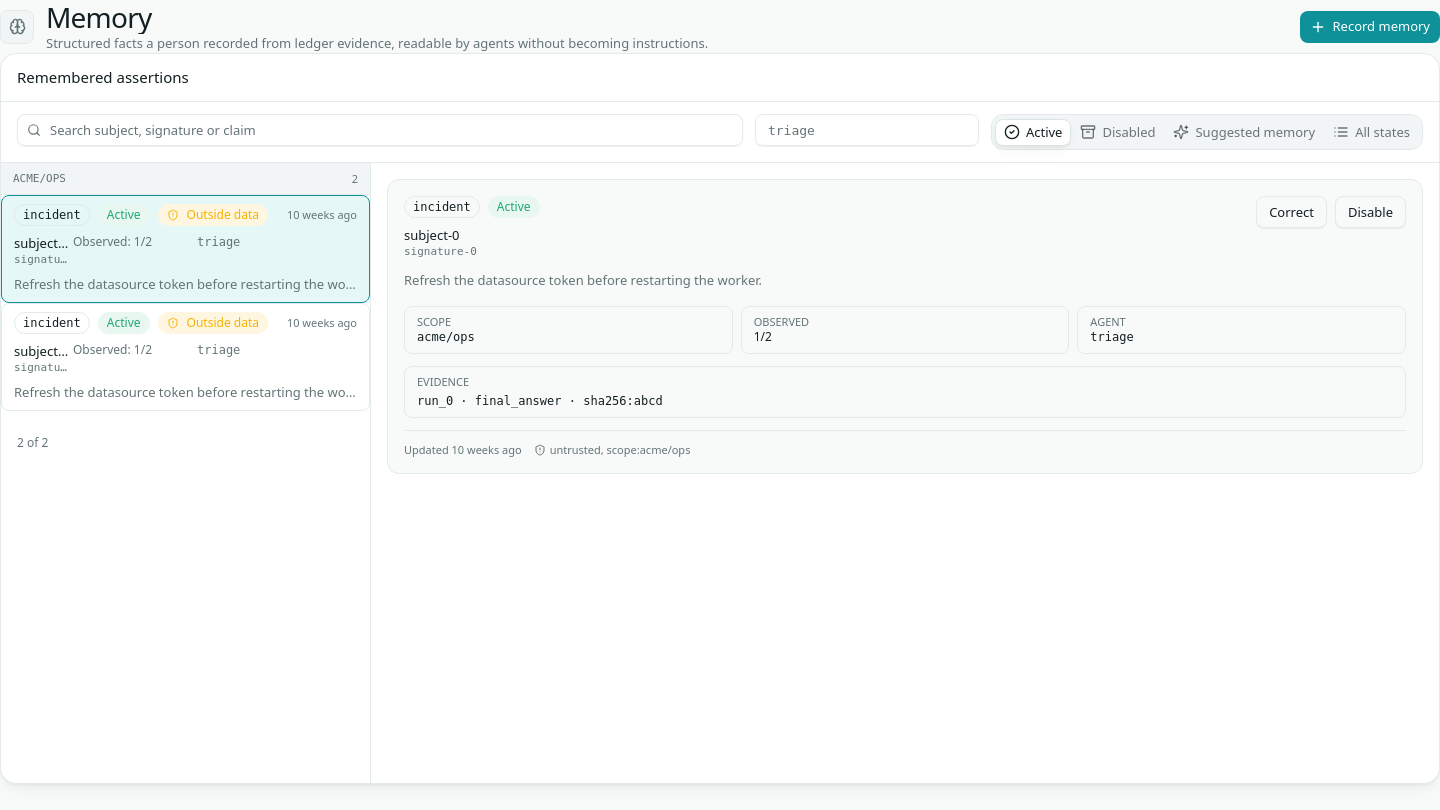
Test: governed memory page › leaves creation when a remembered assertion is selected
Click the button "Record memory". click: (1370, 26)
box: [1300, 10, 1439, 42]
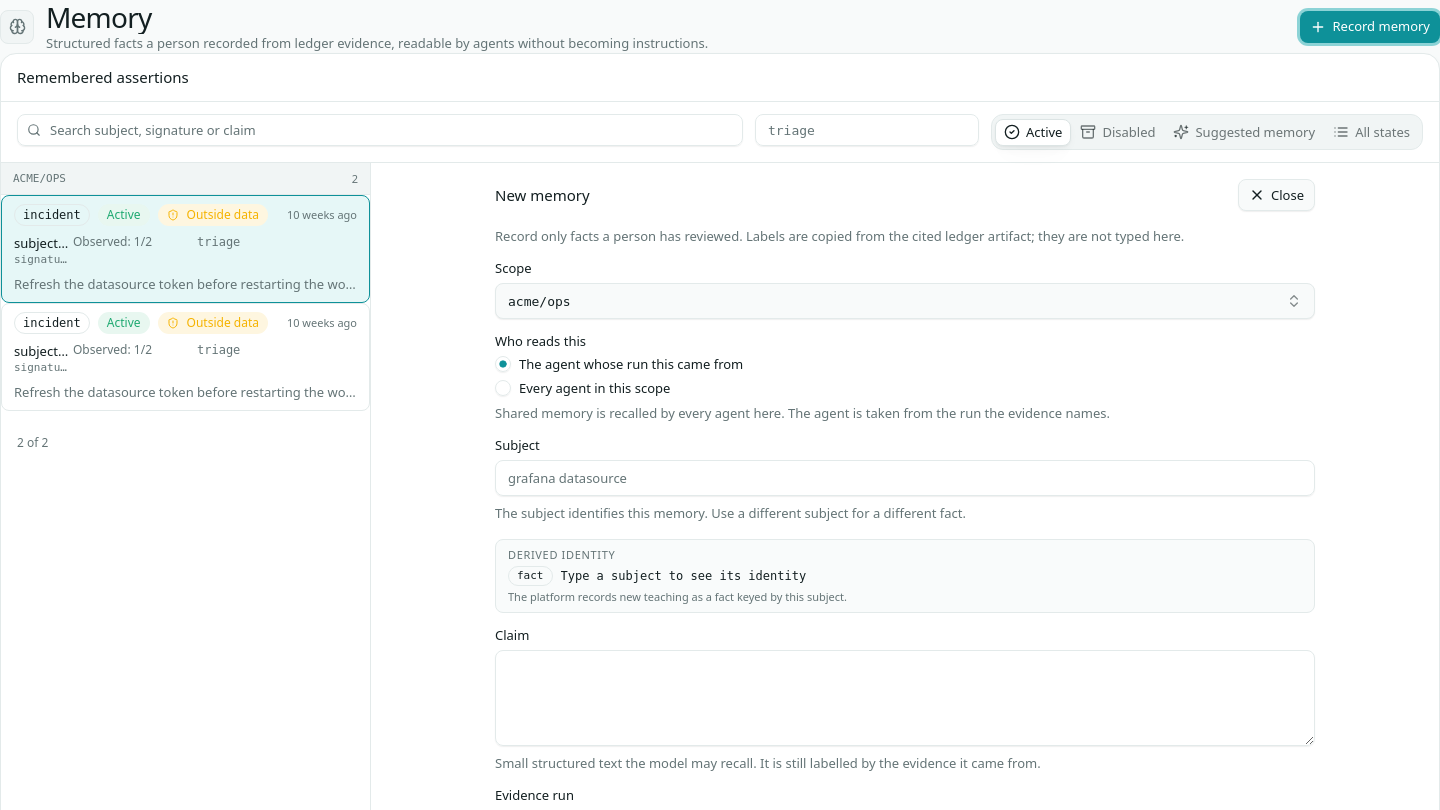
Click the button "subject-1". click: (52, 323)
box: [1, 303, 370, 411]
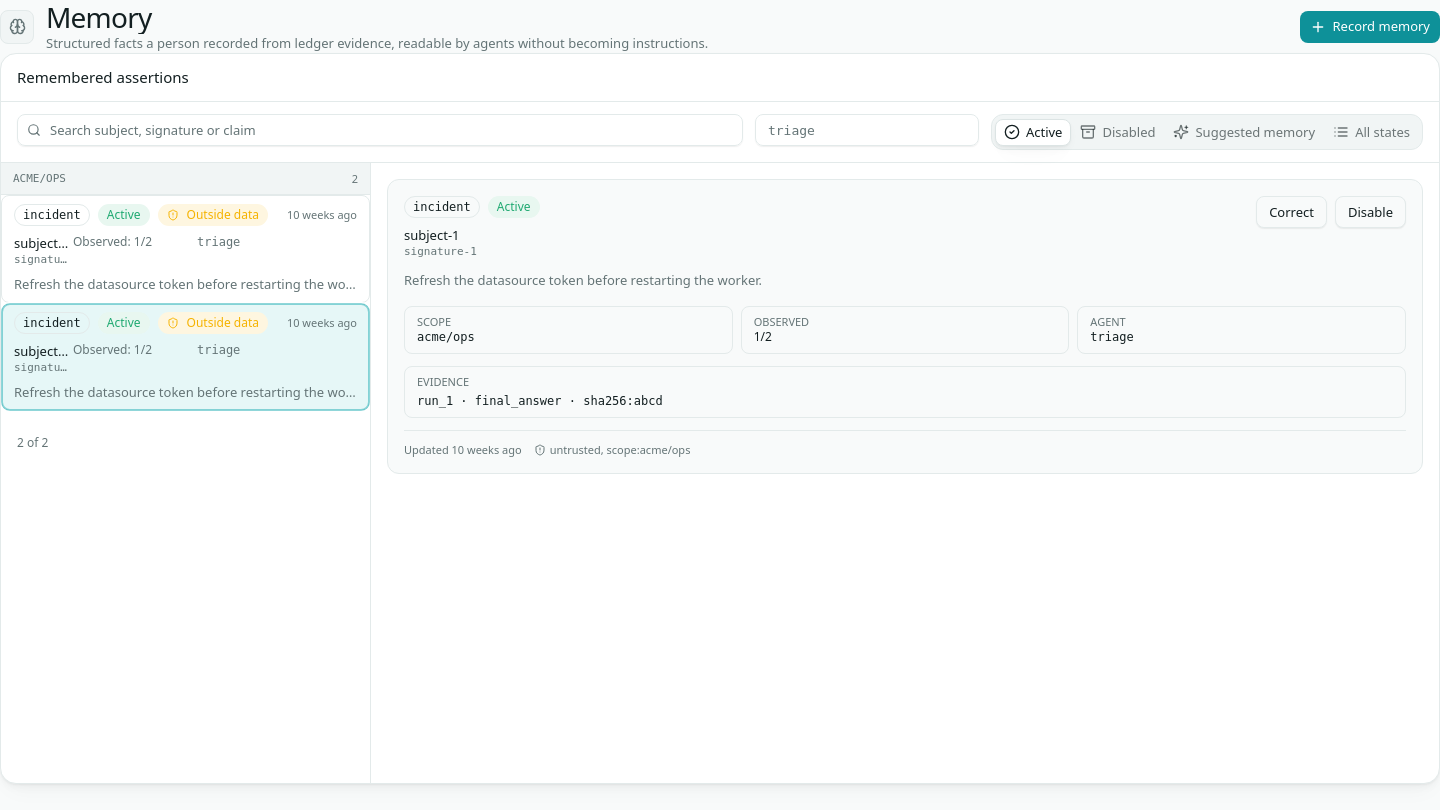
Now the heading "New memory" is gone
Now the text "run_1 · final_answer · sha256:abcd" is shown, box [417, 394, 663, 408]
